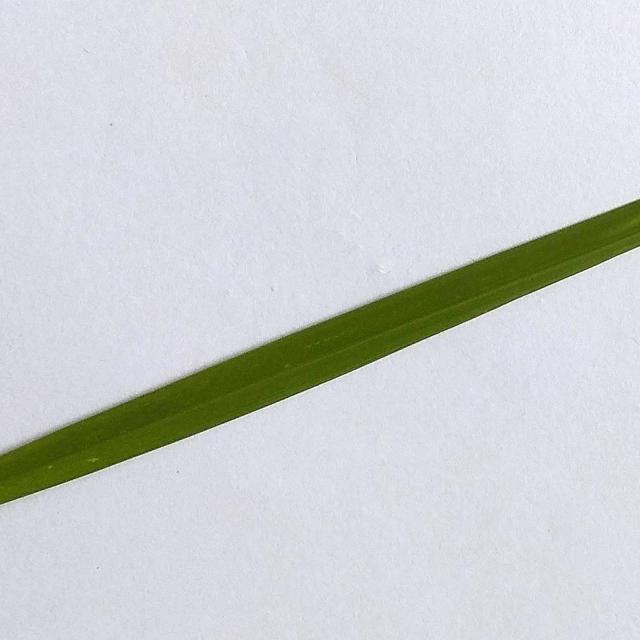healthy: (0, 184, 640, 509)
